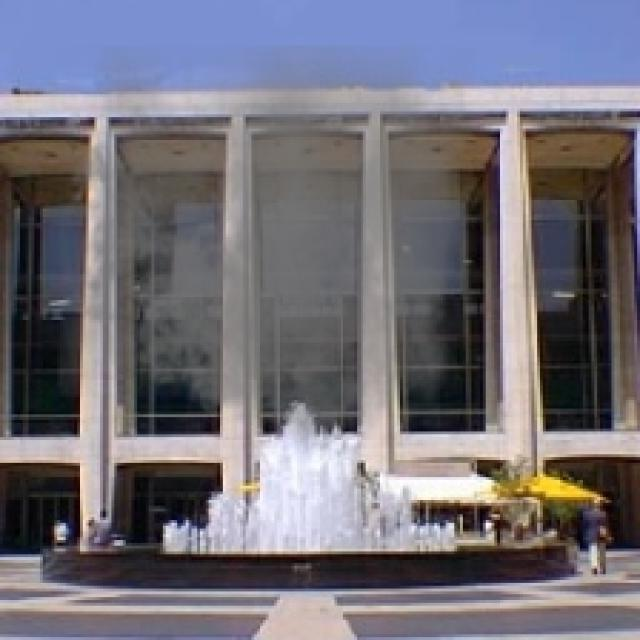smoke: (57, 46, 474, 466)
